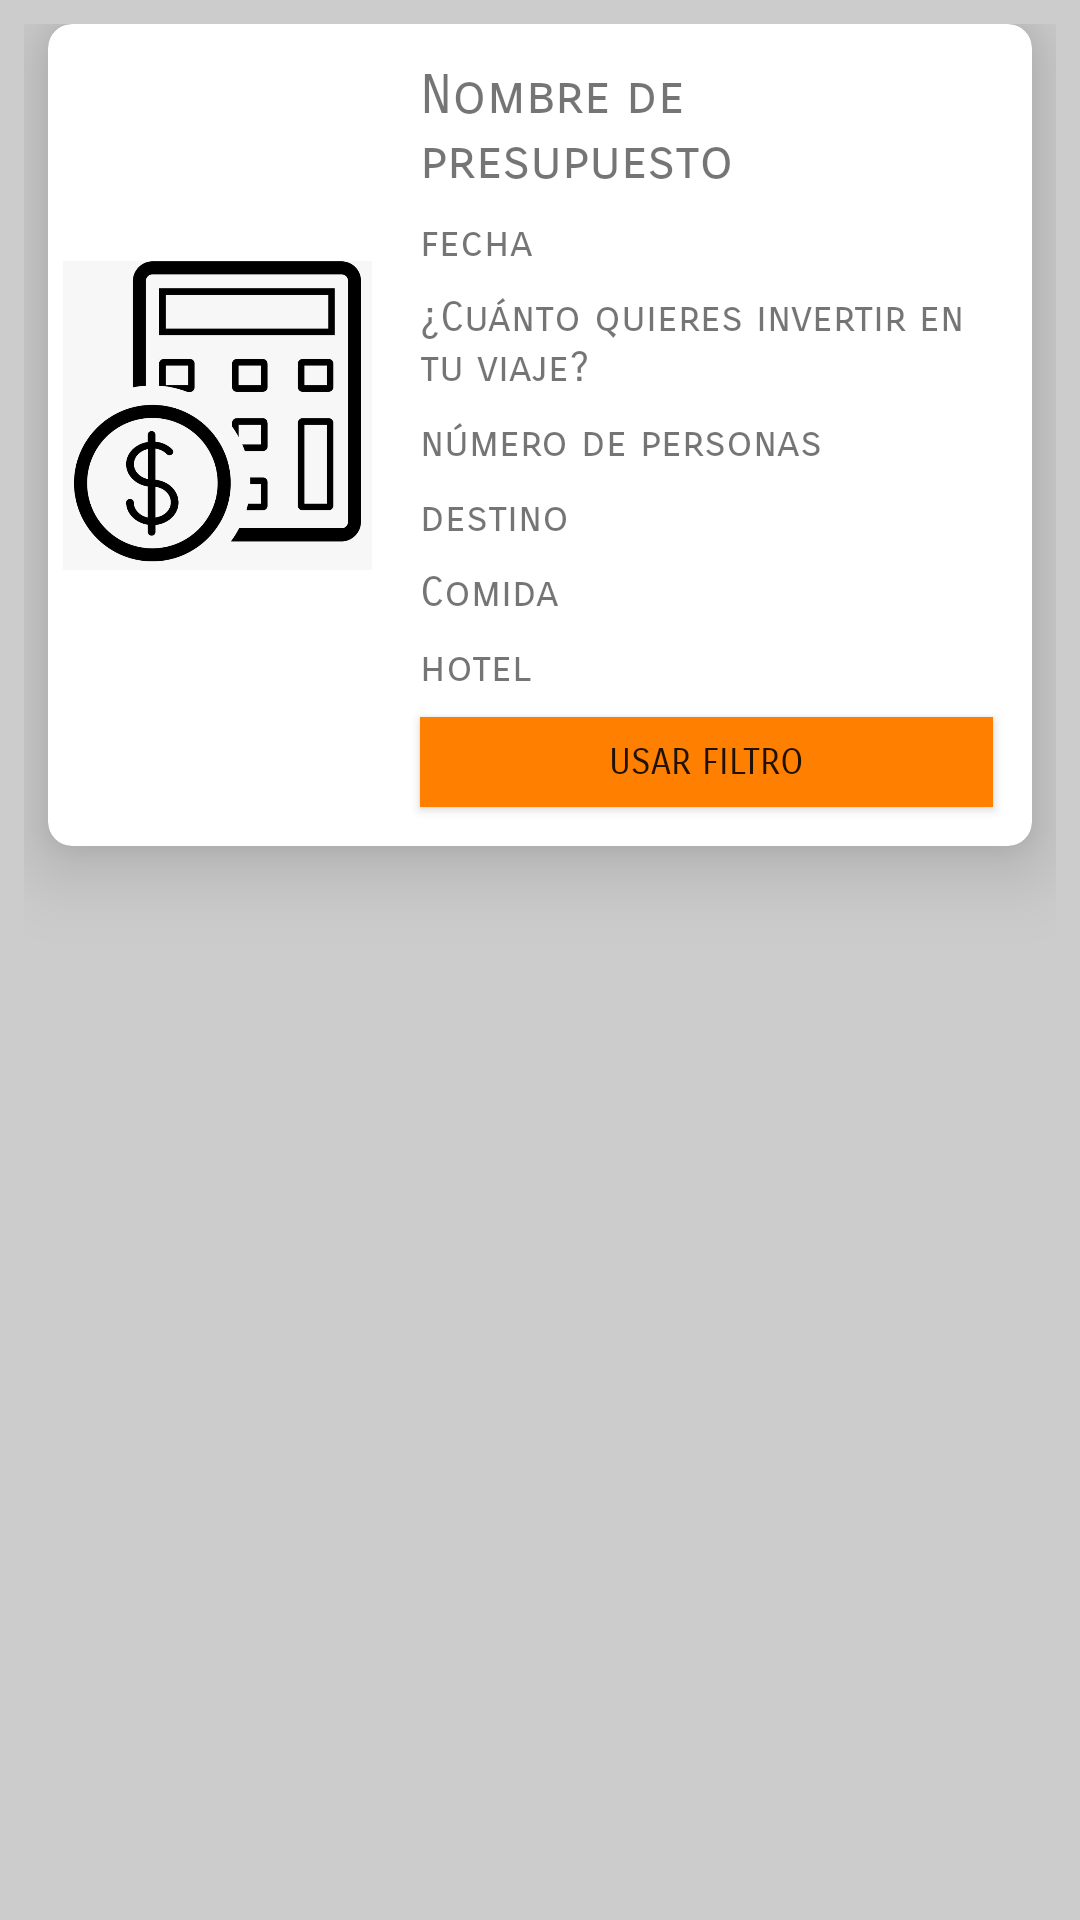

Icons on this 1080w x 1920h Android screen, each with its box as (x1, y1, x2, y2):
budget: (74, 261, 361, 562)
